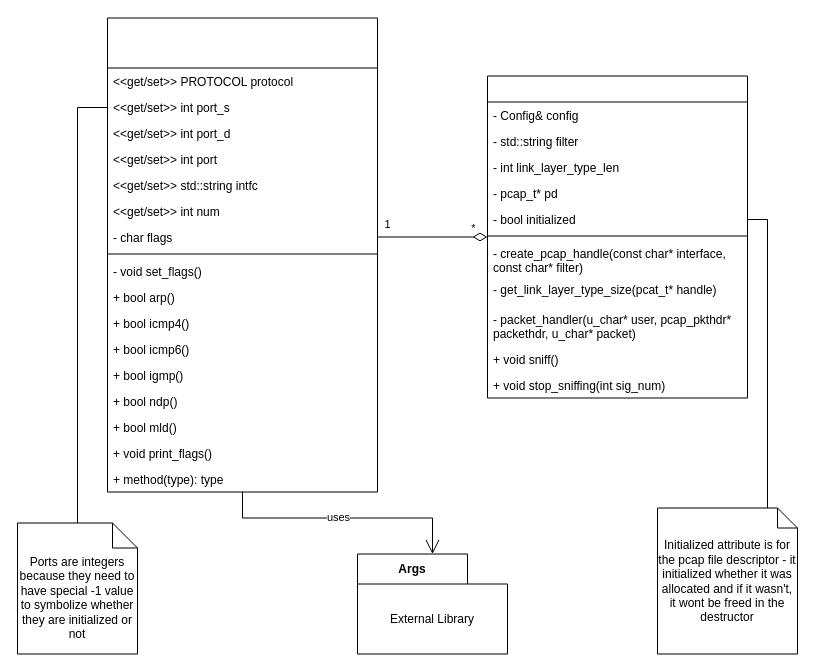
Image size: 815x671. Some labels were removed from this diagram. Each missing label, with the box of its shape:
Config constraints { number of instances = 1 }: (106, 17, 378, 492)
Sniffer: (486, 75, 748, 398)
